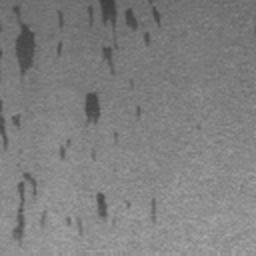Red iron sheet: (12, 0, 161, 76), (12, 172, 47, 247), (76, 192, 108, 236), (0, 114, 21, 151), (85, 92, 100, 124), (150, 198, 157, 224), (135, 105, 143, 120), (59, 146, 66, 160)
